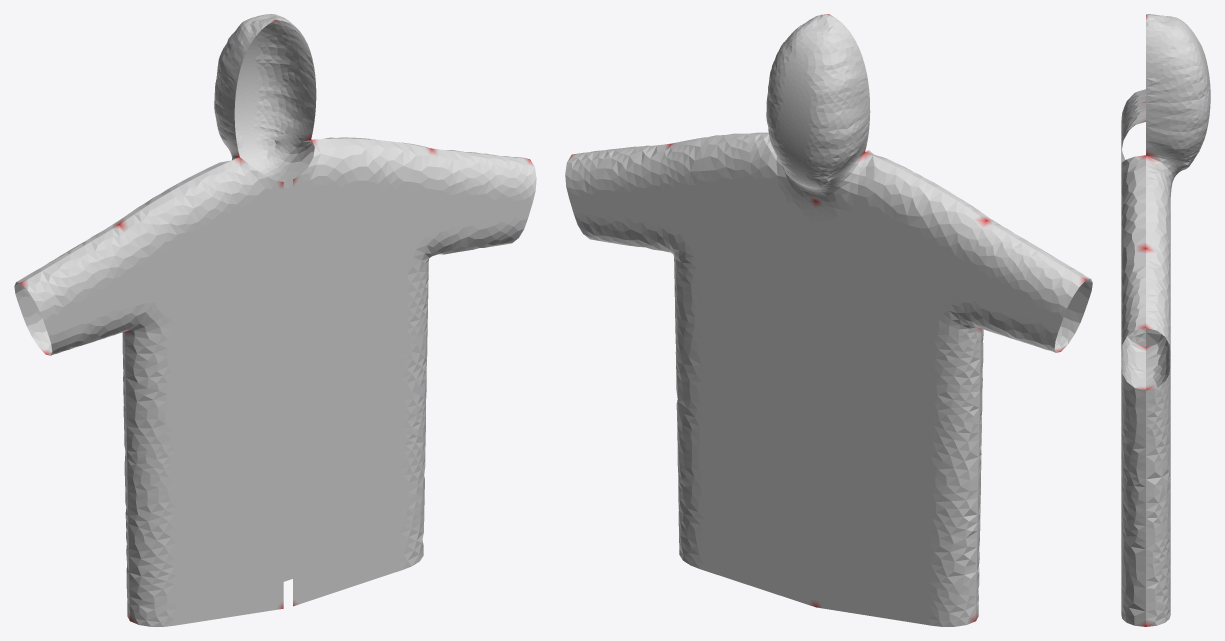
File: mesh.obj.key.obj
The picture shows the model from 3 angles, left to right: view 1: azimuth 30°, elevation 25°; view 2: azimuth 150°, elevation 25°; view 3: azimuth 270°, elevation 25°; orthographic projection. The views are drawn at different scales.
Bounding box in the file's own units: 0.9601 × 1.04 × 0.1519.
